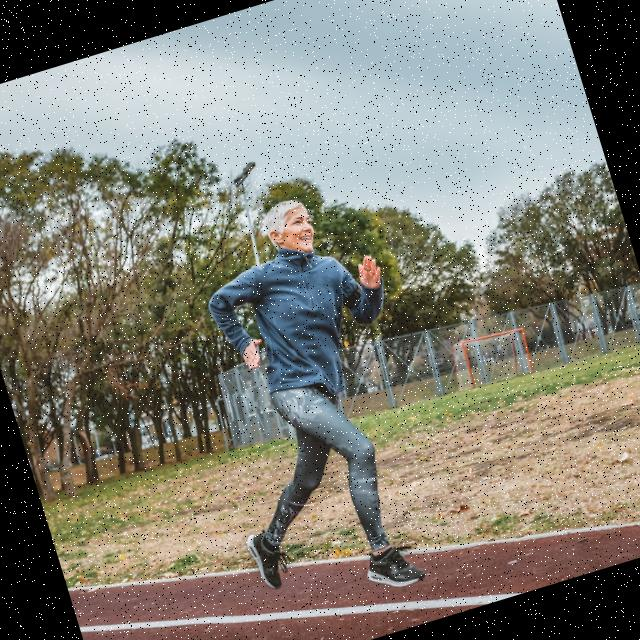Person: (154, 178, 472, 628)
